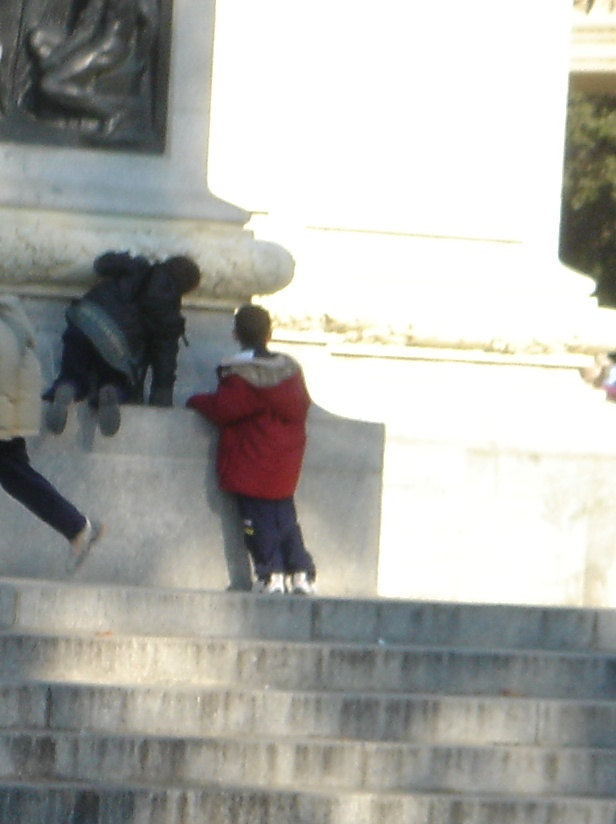person: (213, 302, 324, 601)
